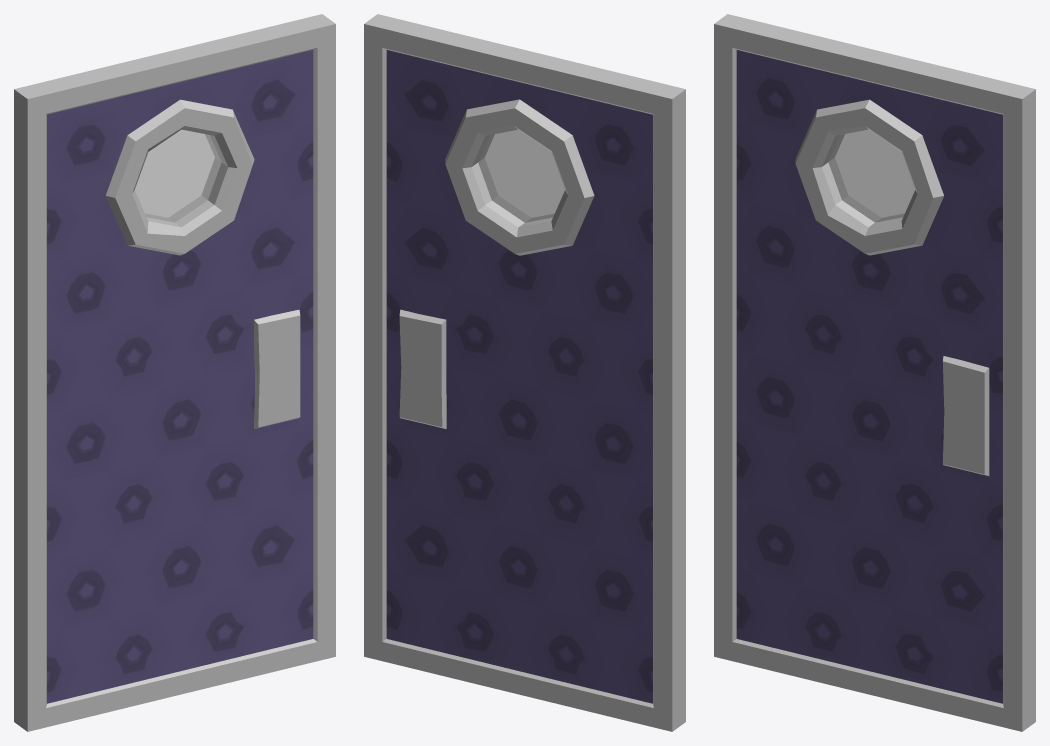
Rendered from SM_Bld_Door_04.fbx.
3 views of the same model, side by side, from view 1: azimuth 30°, elevation 25°; view 2: azimuth 150°, elevation 25°; view 3: azimuth 330°, elevation 25° (orthographic).
Parts seen in each view (by area): view 1: SM_Bld_Door_04; view 2: SM_Bld_Door_04; view 3: SM_Bld_Door_04.
Part boxes in pixels (box(x1,y1,x2,y2)): SM_Bld_Door_04: box(14, 14, 335, 731); SM_Bld_Door_04: box(364, 14, 685, 731); SM_Bld_Door_04: box(714, 14, 1035, 731).
Size of the model in its own units: 100 by 197 by 11.22.
